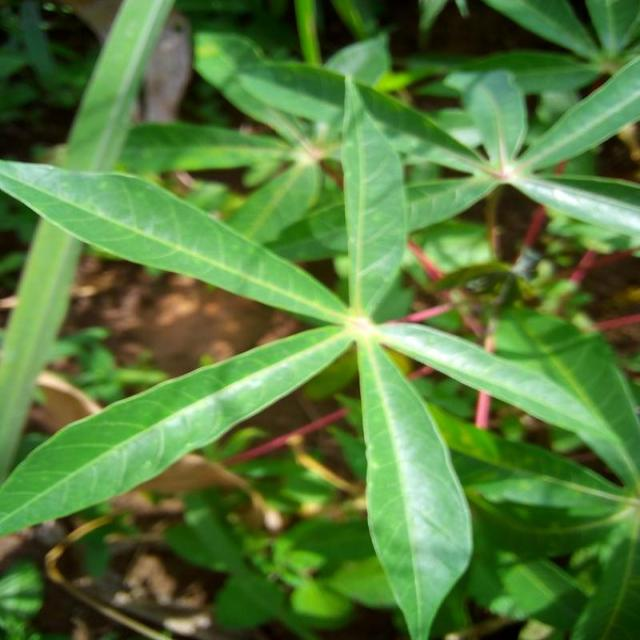cassava leaf: (0, 3, 639, 638)
